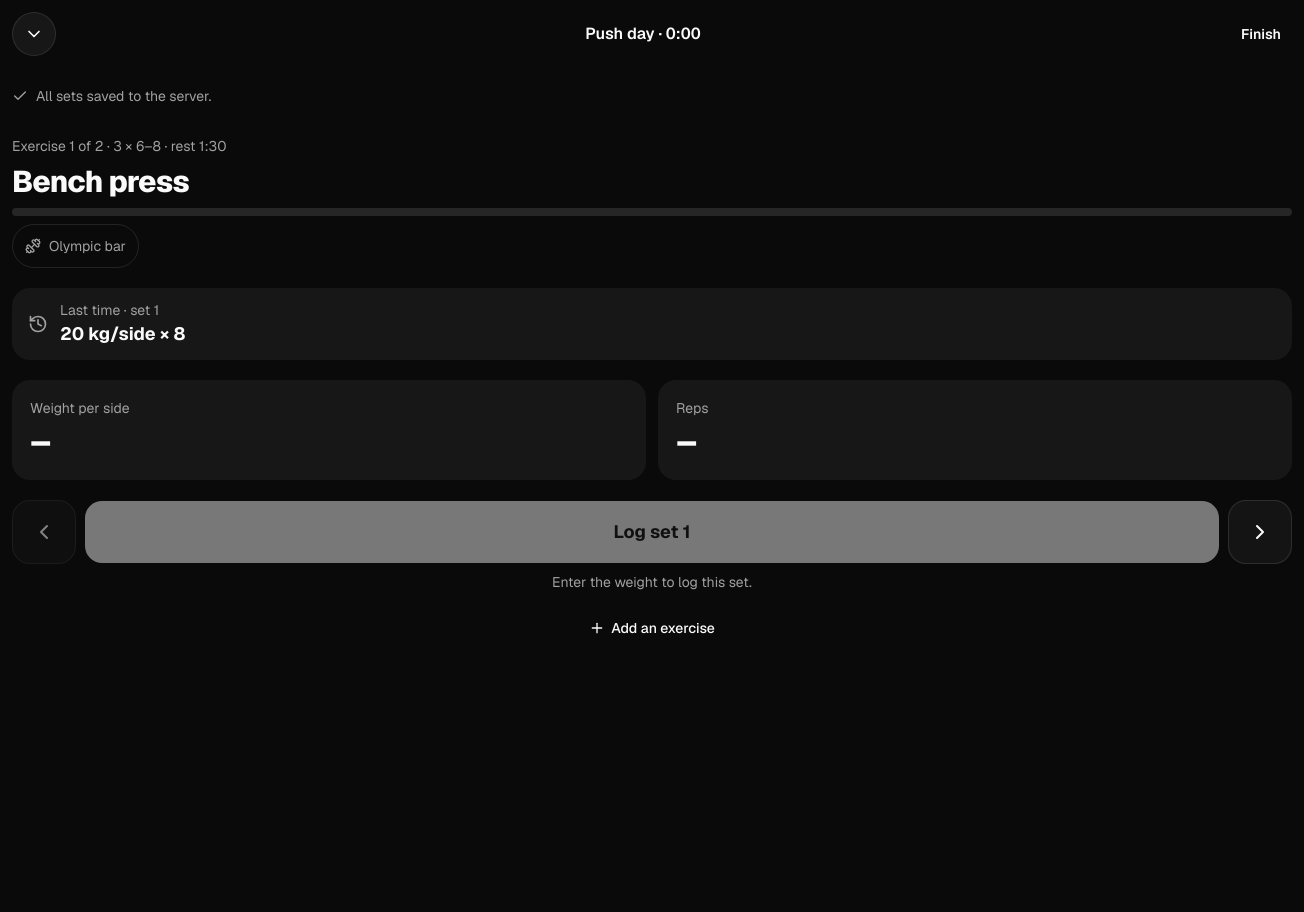
Test case: the workout screen, wired › keeps each exercise’s own weight and reps
The width and height of the screenshot is (1304, 912).
What coordinates should you click on to do the following:
click the button "Weight per side –"
I would click on:
 (80, 408)
Its box is [12, 380, 646, 480].
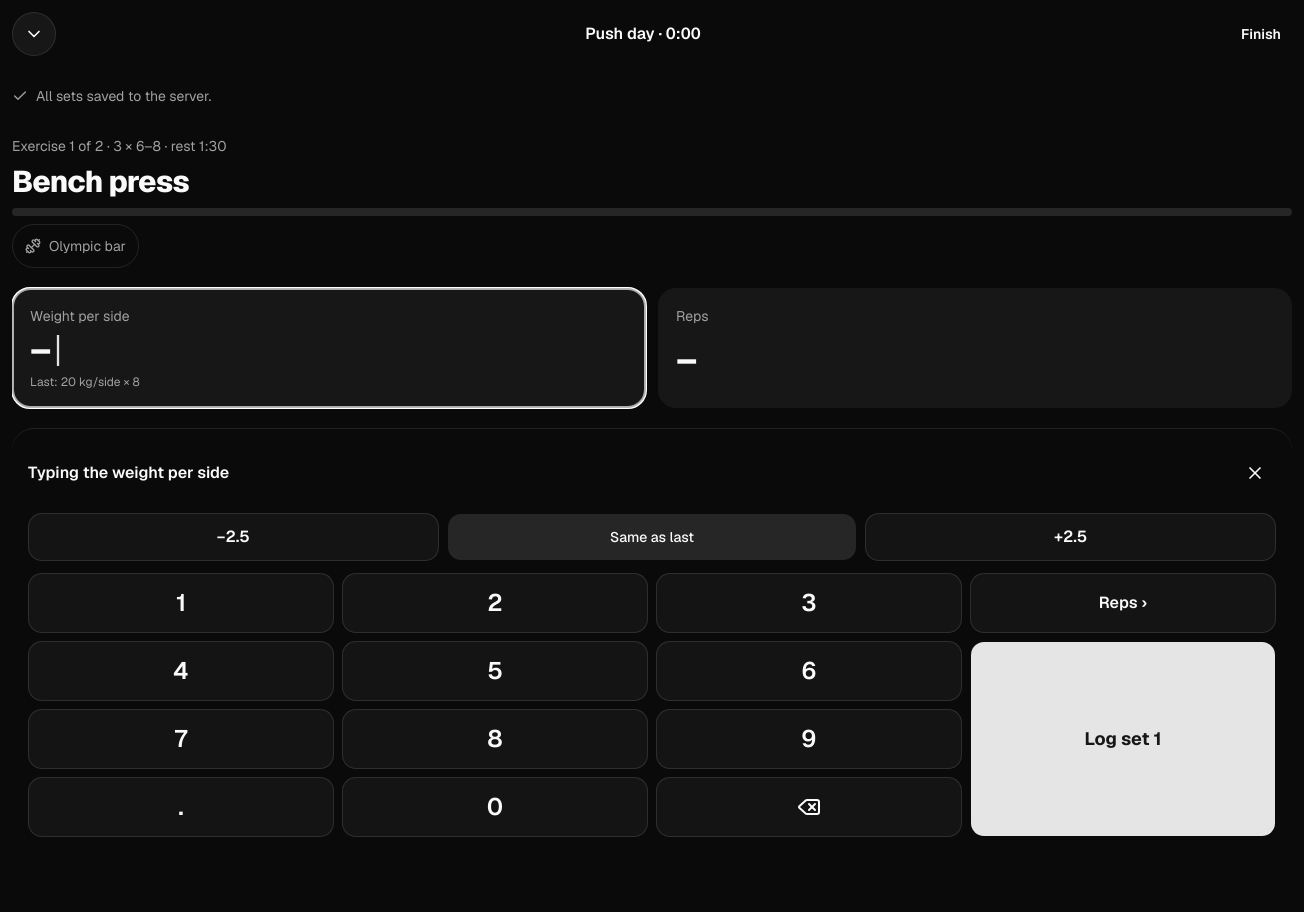
What coordinates should you click on to do the following:
click the button "3"
I would click on:
 (809, 603)
Its box is [656, 573, 962, 633].
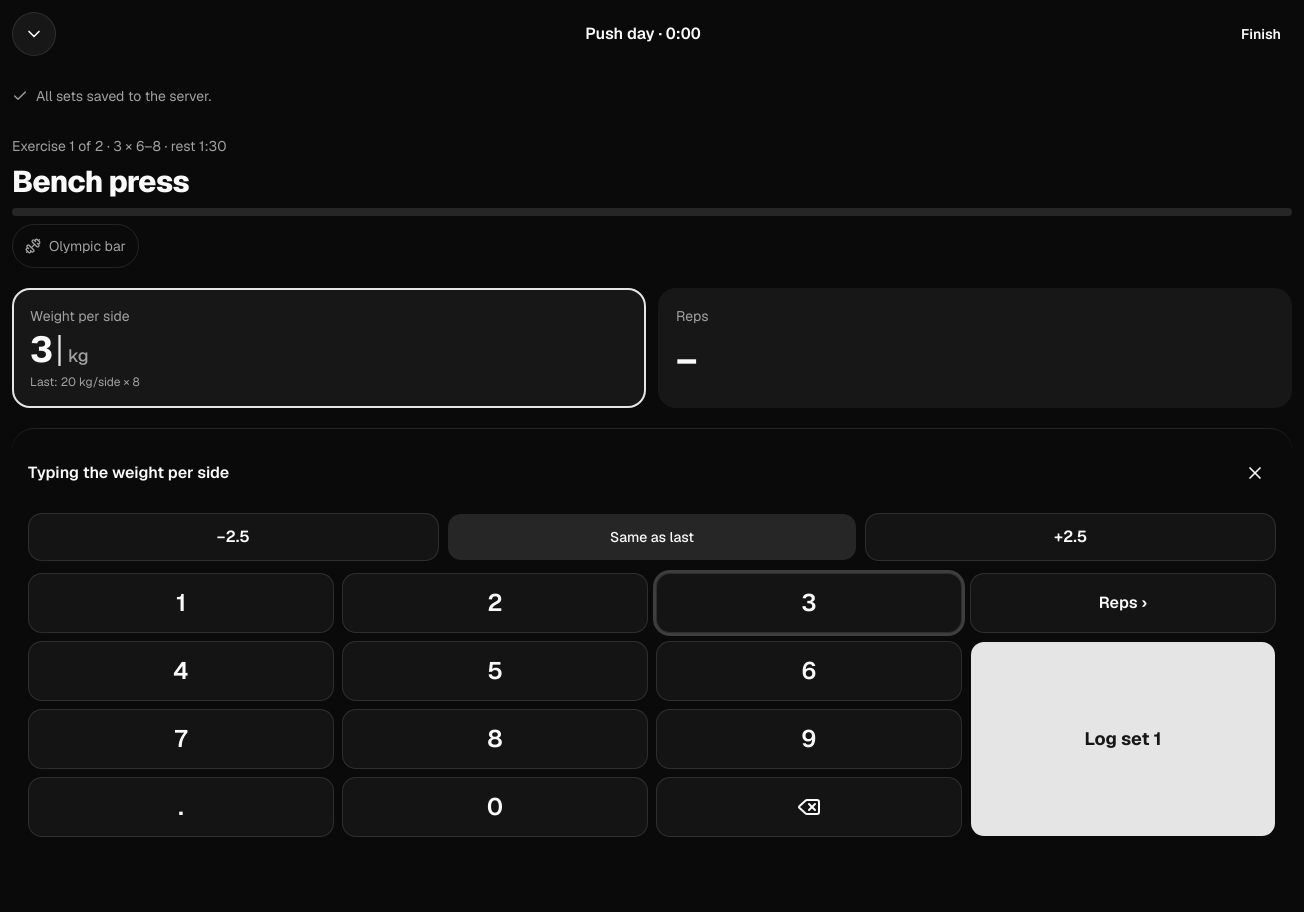
What coordinates should you click on to do the following:
click the button "0"
I would click on:
 (495, 807)
Its box is [342, 777, 648, 837].
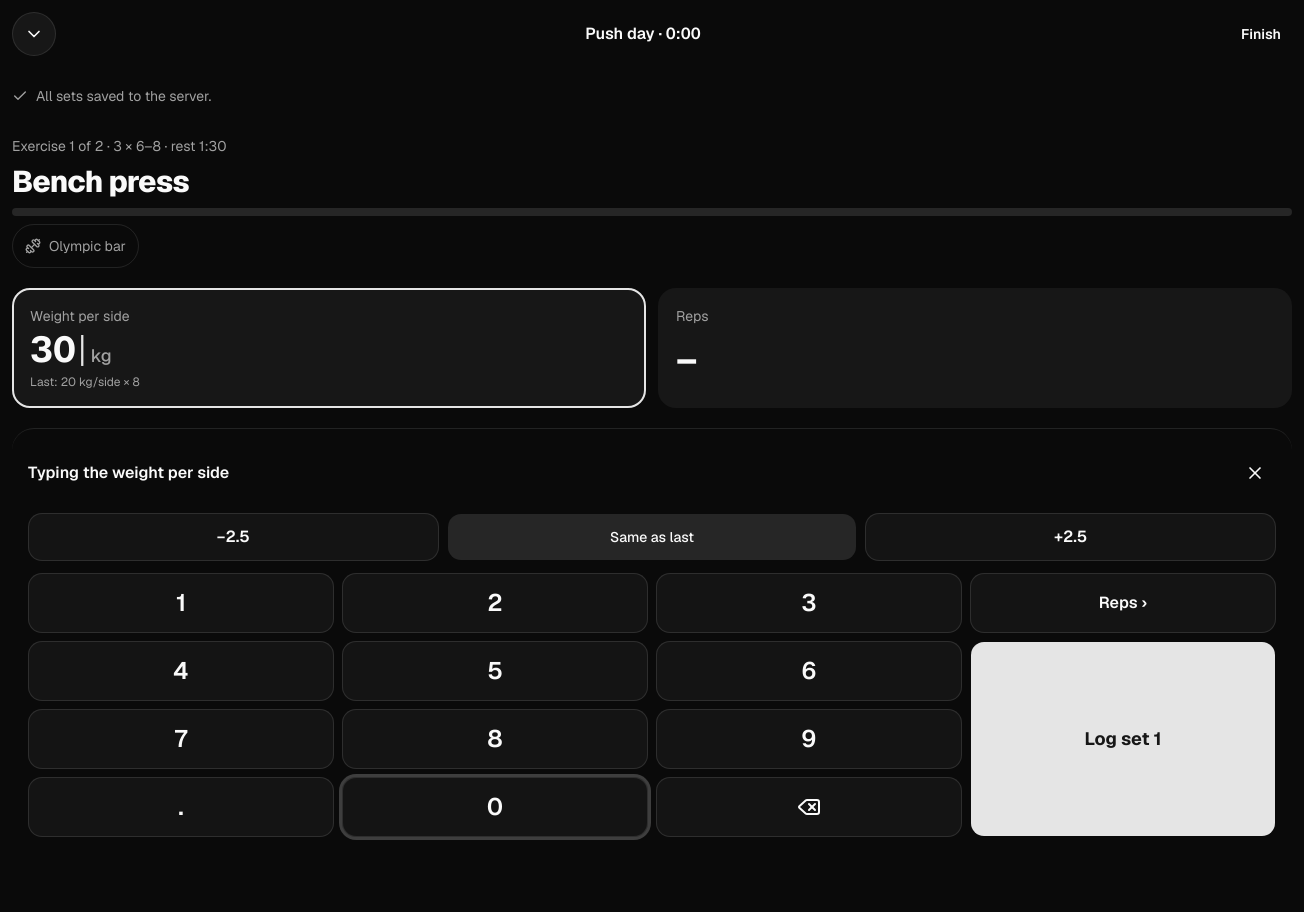
What coordinates should you click on to do the following:
click the button named "Close"
I would click on:
 (1255, 473)
Its box is [1234, 445, 1276, 501].
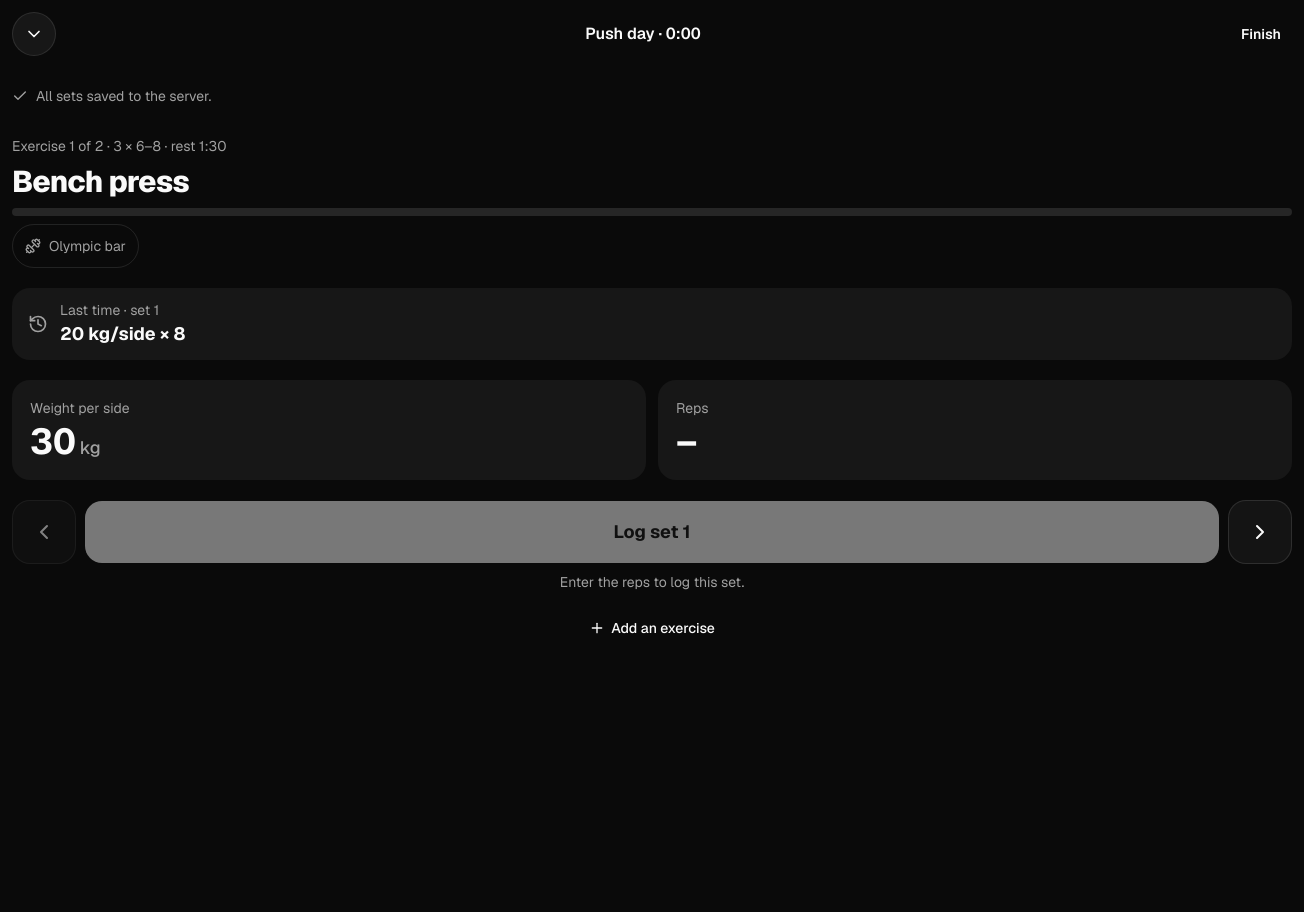
What coordinates should you click on to do the following:
click the button named "Next exercise"
I would click on:
 (1260, 532)
Its box is [1228, 500, 1292, 564].
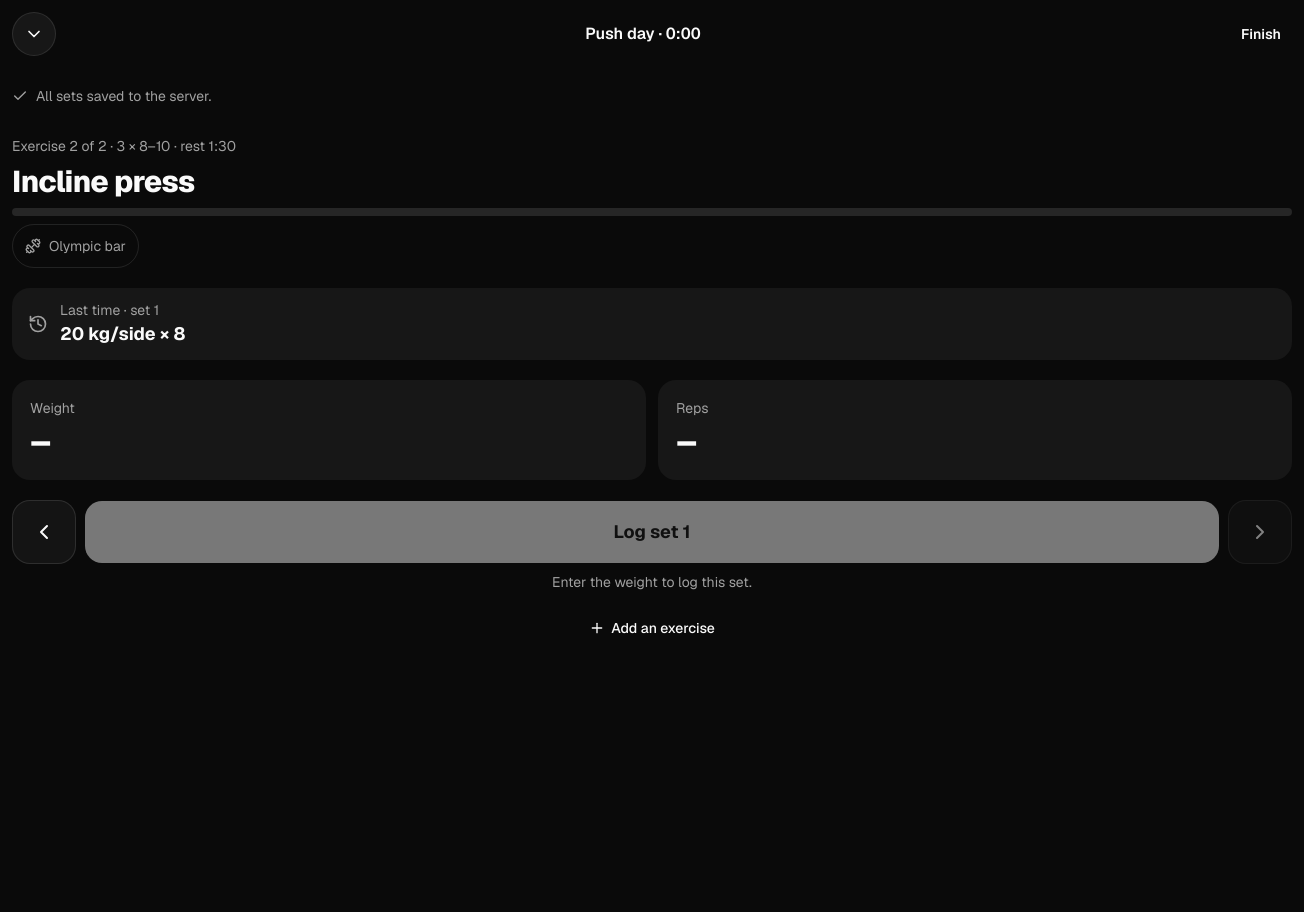
Expected: the heading "Incline press" is shown, [12, 162, 195, 201]
Expected: the button with aria-label "Weight, not entered" is shown, [12, 380, 646, 480]
What coordinates should you click on to do the following:
click the button named "Previous exercise"
I would click on:
 (44, 532)
Its box is [12, 500, 76, 564].
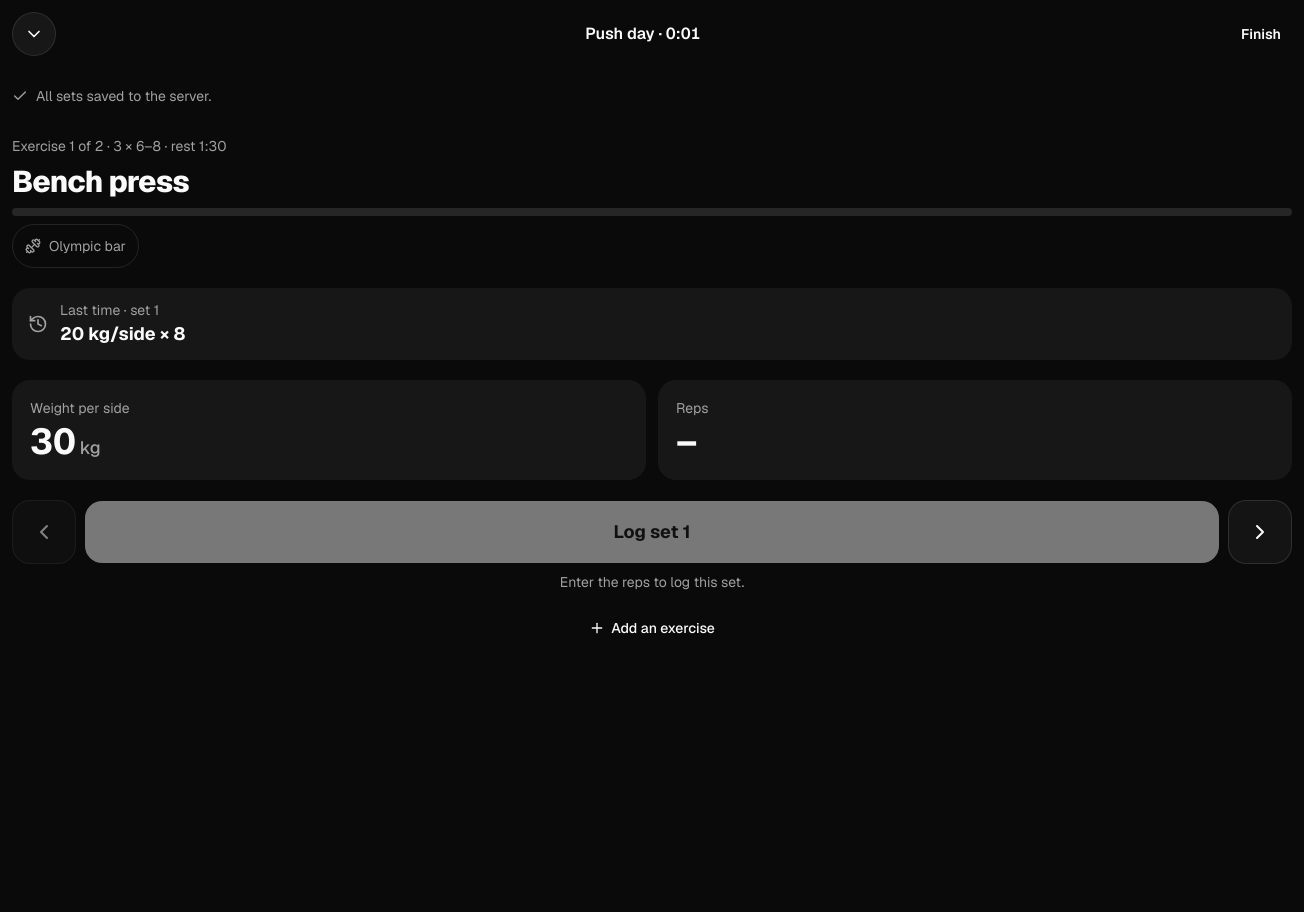
Expected: the button with aria-label "Weight per side, 30 kilograms" is shown, [12, 380, 646, 480]
